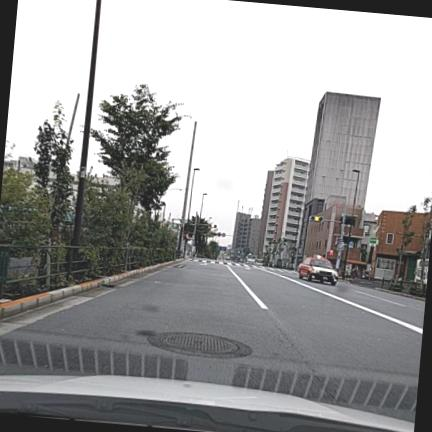Road: (0, 260, 424, 420)
